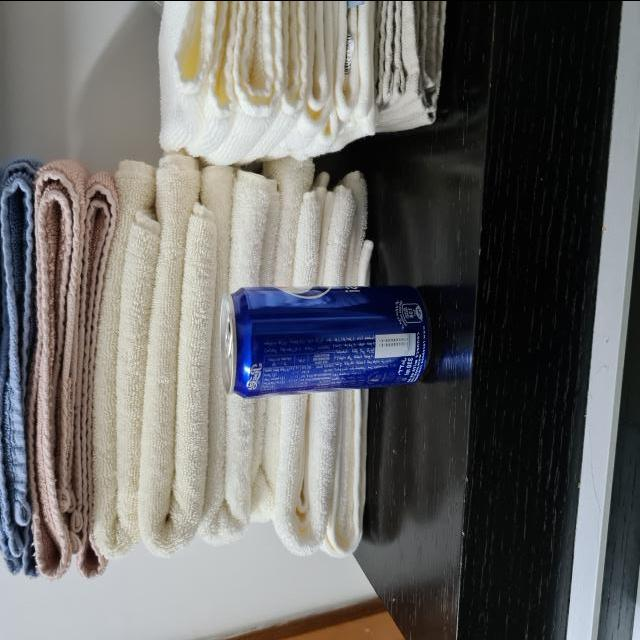can: (219, 286, 433, 402)
